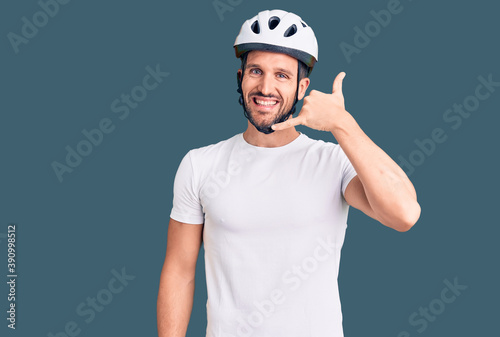helmet: (233, 9, 319, 131)
